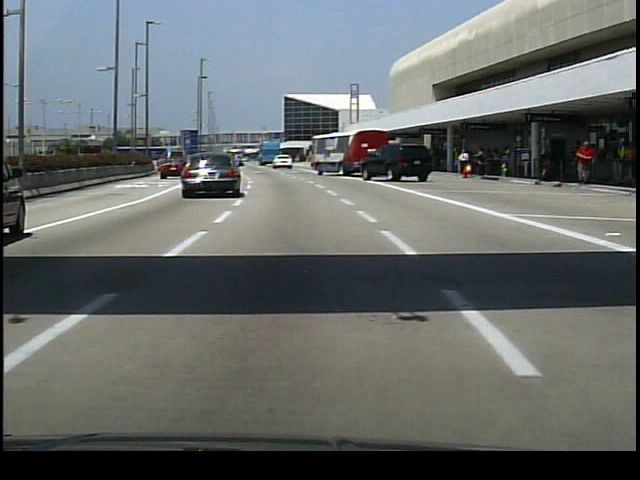person: (572, 139, 599, 188), (457, 148, 473, 181)
